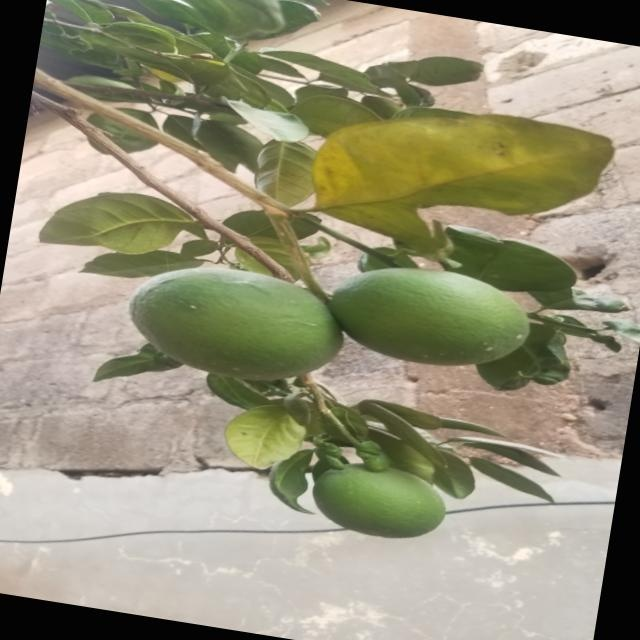agrume: (112, 251, 336, 397), (328, 254, 534, 384), (280, 444, 468, 560)
